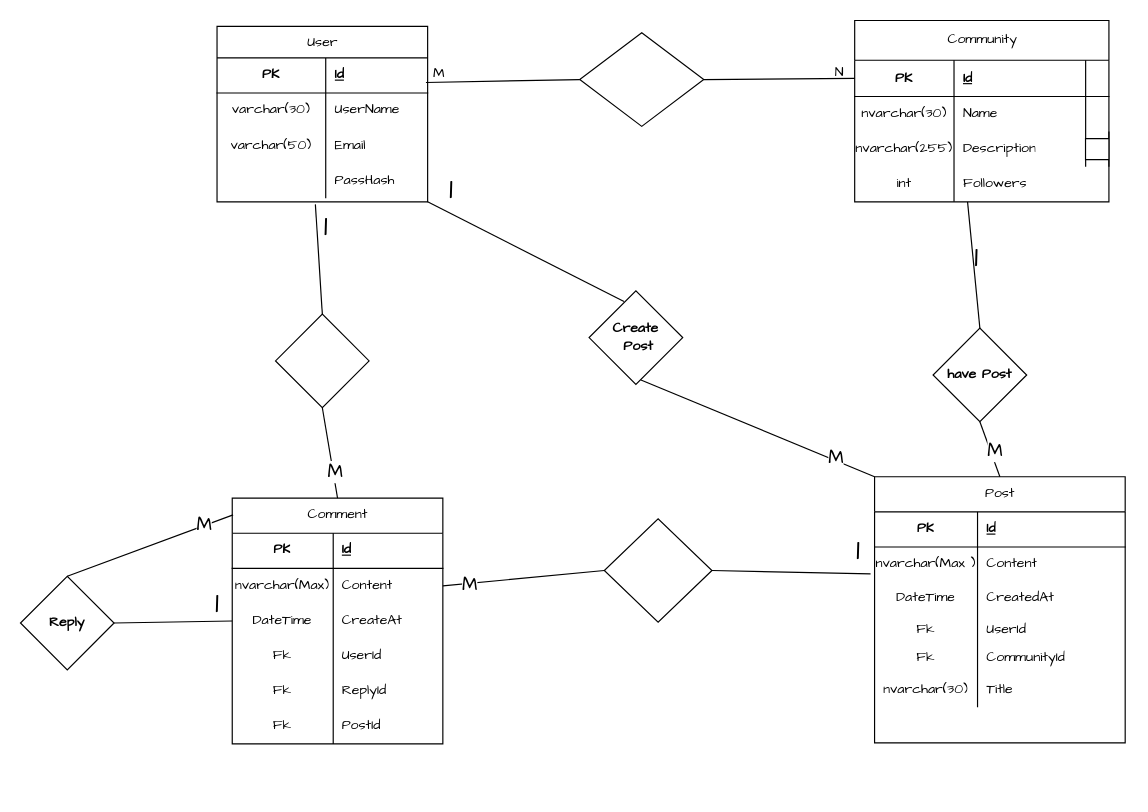
Image size: 1148x812. Some labels were removed from this diagram. Each missing label, with the centre of its shape:
Create Commnet: point 321,360
Have Commnets: point 657,570
Membership: point 641,79
